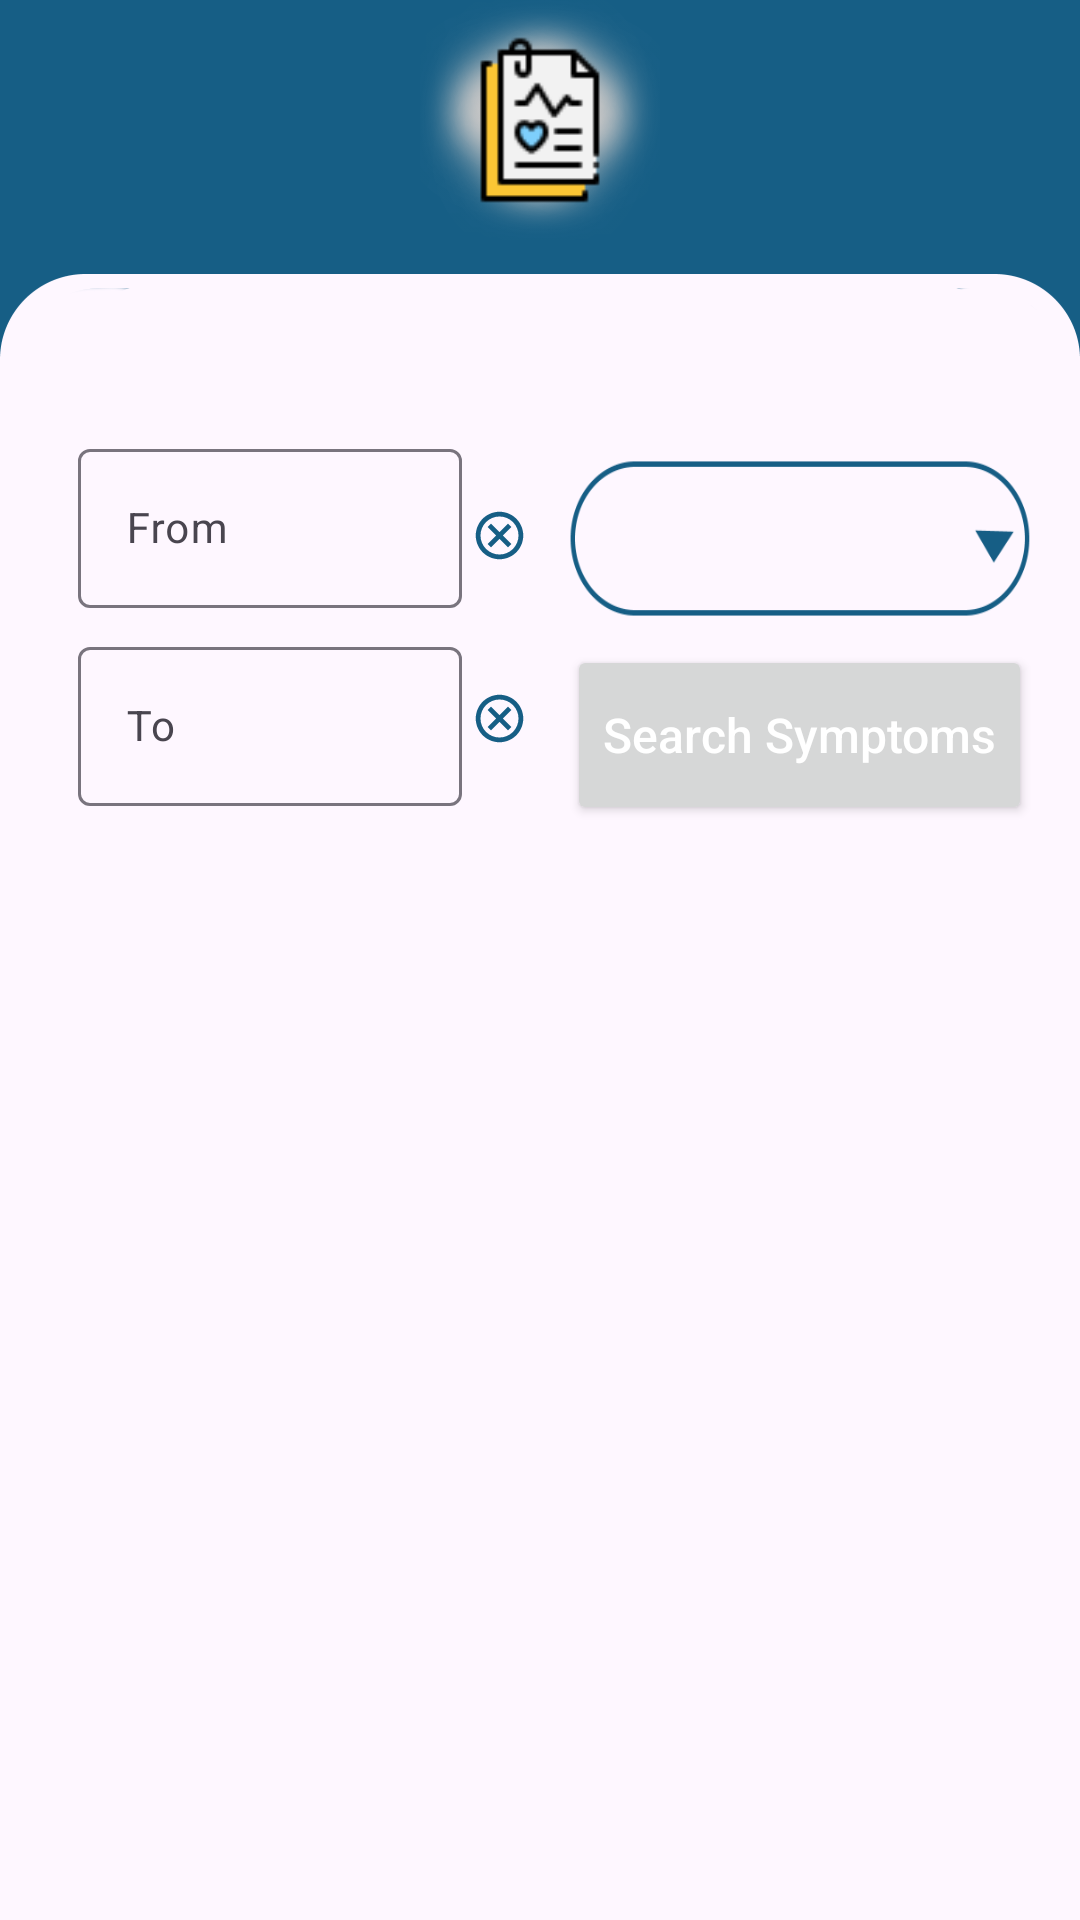

Where icons sit on this 1080×1920 app screen, as [x1,y1,x2,y2]:
cancel: [475,511,524,560], [475,694,524,743]
report: [436,20,643,219]
